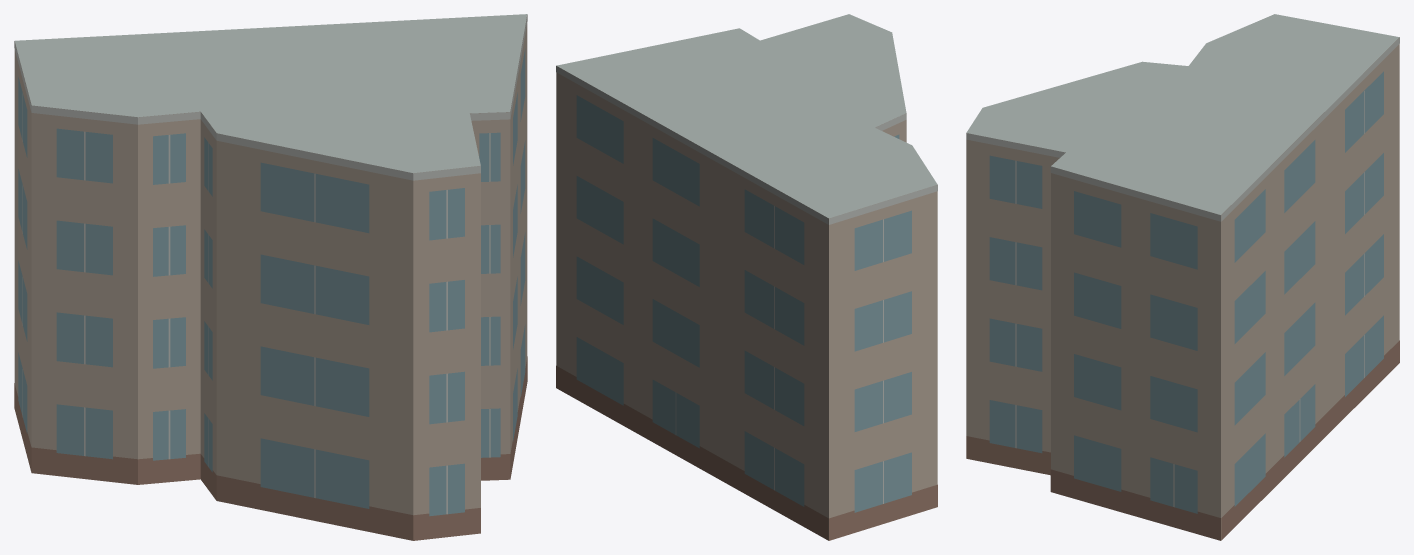
File: survey-upis-32995802.glb
The picture shows the model from 3 angles, left to right: view 1: azimuth 30°, elevation 25°; view 2: azimuth 150°, elevation 25°; view 3: azimuth 270°, elevation 25°; orthographic projection. The views are drawn at different scales.
Parts seen in each view (by area): view 1: survey-upis-32995802.tmp; view 2: survey-upis-32995802.tmp; view 3: survey-upis-32995802.tmp.
Boxes of the visible parts, left/top/right/bottom form: survey-upis-32995802.tmp: left=14, top=14, right=527, bottom=540; survey-upis-32995802.tmp: left=556, top=14, right=937, bottom=540; survey-upis-32995802.tmp: left=966, top=14, right=1399, bottom=540.
Bounding box in the file's own units: 15.91 × 12 × 14.49.
